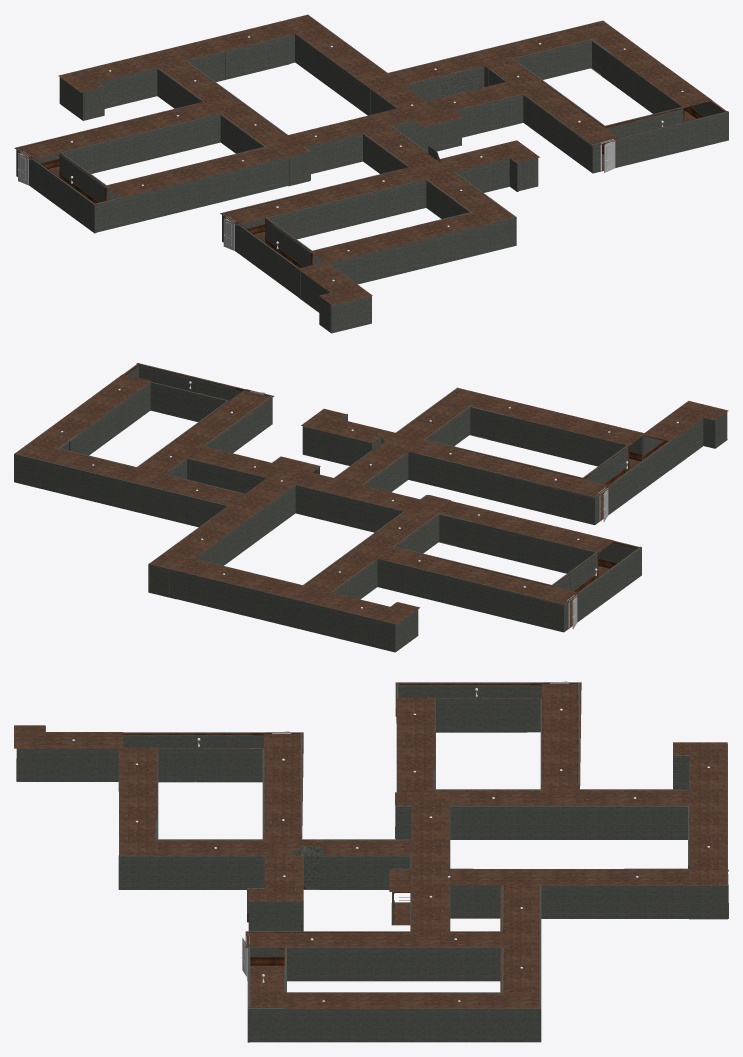
Rendered from Labyrinth.fbx.
The picture shows the model from 3 angles, top to bottom: view 1: azimuth 30°, elevation 25°; view 2: azimuth 150°, elevation 25°; view 3: azimuth 270°, elevation 25°; orthographic projection. The views are drawn at different scales.
Visible parts, largest first — view 1: duvar.071, duvar.076, duvar.010, giriş zemin.028, giriş zemin.007, giriş zemin.009, duvar.126, duvar.115, giriş zemin.042, giriş zemin.045, duvar.050, duvar.015 (+2 smaller); view 2: duvar.071, duvar.076, duvar.010, giriş zemin.028, giriş zemin.007, giriş zemin.009, duvar.115, duvar.126, giriş zemin.045, giriş zemin.042, duvar.050; view 3: duvar.010, giriş zemin.028, giriş zemin.007, giriş zemin.009, duvar.071, duvar.076, duvar.126, giriş zemin.042, giriş zemin.045, duvar.115, giriş zemin.014.
Boxes of the visible parts, x1,y1,x2,y2 form: duvar.071: (16, 14, 324, 233); duvar.076: (222, 85, 524, 298); duvar.010: (288, 15, 728, 173); giriş zemin.028: (220, 80, 529, 263); giriş zemin.007: (14, 15, 323, 197); giriş zemin.009: (296, 15, 712, 146); duvar.126: (300, 265, 371, 332); duvar.115: (455, 141, 538, 192); giriş zemin.042: (436, 140, 539, 171); giriş zemin.045: (298, 262, 372, 305); duvar.050: (177, 36, 288, 107); duvar.015: (84, 87, 104, 120); duvar.071: (149, 495, 641, 652); duvar.076: (187, 387, 672, 532); duvar.010: (14, 363, 319, 597); giriş zemin.028: (181, 388, 645, 517); giriş zemin.007: (150, 495, 613, 624); giriş zemin.009: (15, 374, 320, 563); duvar.115: (302, 414, 371, 465); duvar.126: (642, 404, 715, 467); giriş zemin.045: (644, 401, 728, 441); giriş zemin.042: (301, 408, 396, 444); duvar.050: (351, 559, 377, 599); duvar.010: (247, 868, 728, 1042); giriş zemin.028: (118, 732, 449, 934); giriş zemin.007: (396, 682, 727, 884); giriş zemin.009: (245, 869, 726, 1008); duvar.071: (395, 682, 728, 919); duvar.076: (118, 732, 450, 935); duvar.126: (16, 725, 118, 781); giriş zemin.042: (248, 855, 303, 901); giriş zemin.045: (14, 725, 123, 748); duvar.115: (247, 856, 303, 931); giriş zemin.014: (250, 981, 284, 1007).
Size of the model in its own units: 25409 by 1544 by 23308.
